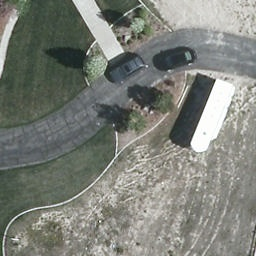camping car: (191, 79, 237, 155)
car: (107, 54, 145, 84), (152, 46, 199, 68)
